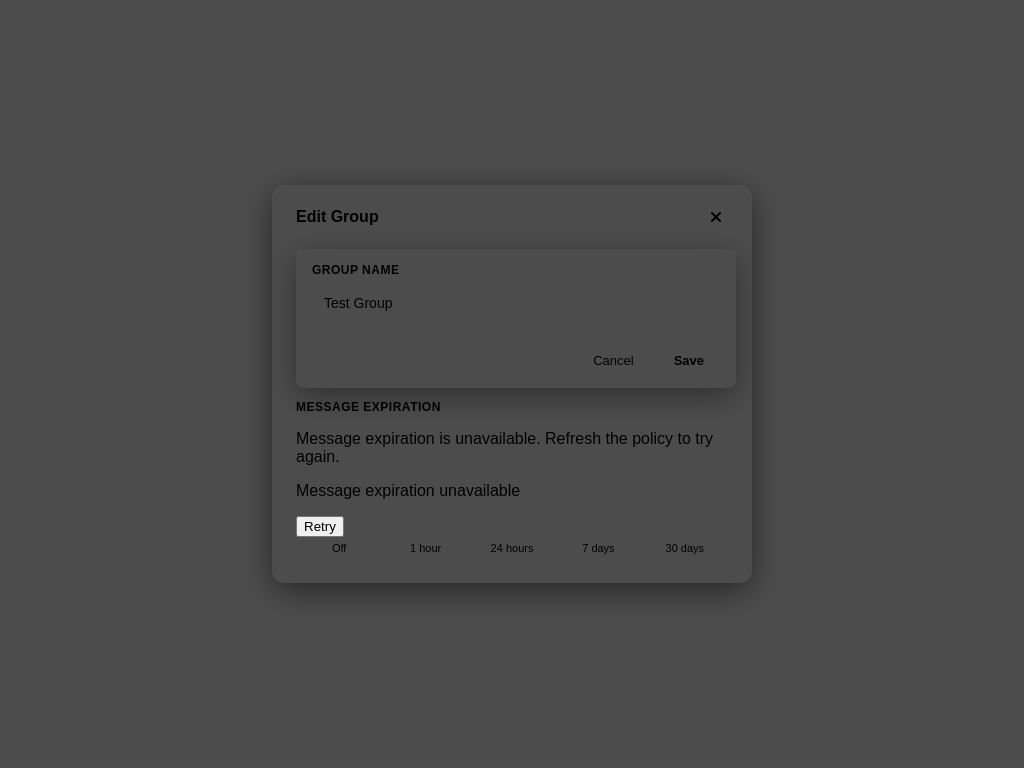
Test: EditGroupModal › shows error on API failure
Click the button "Save" at (689, 360), box [658, 345, 720, 376]
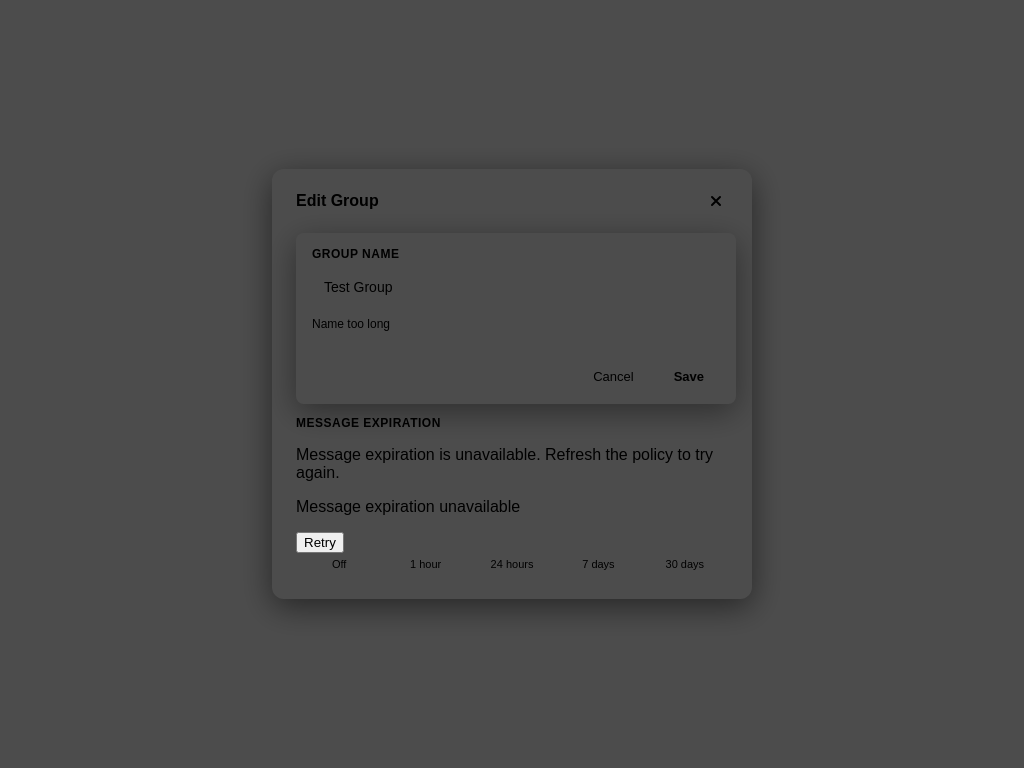
expect the text "Name too long" is shown: met, box [312, 317, 390, 331]
